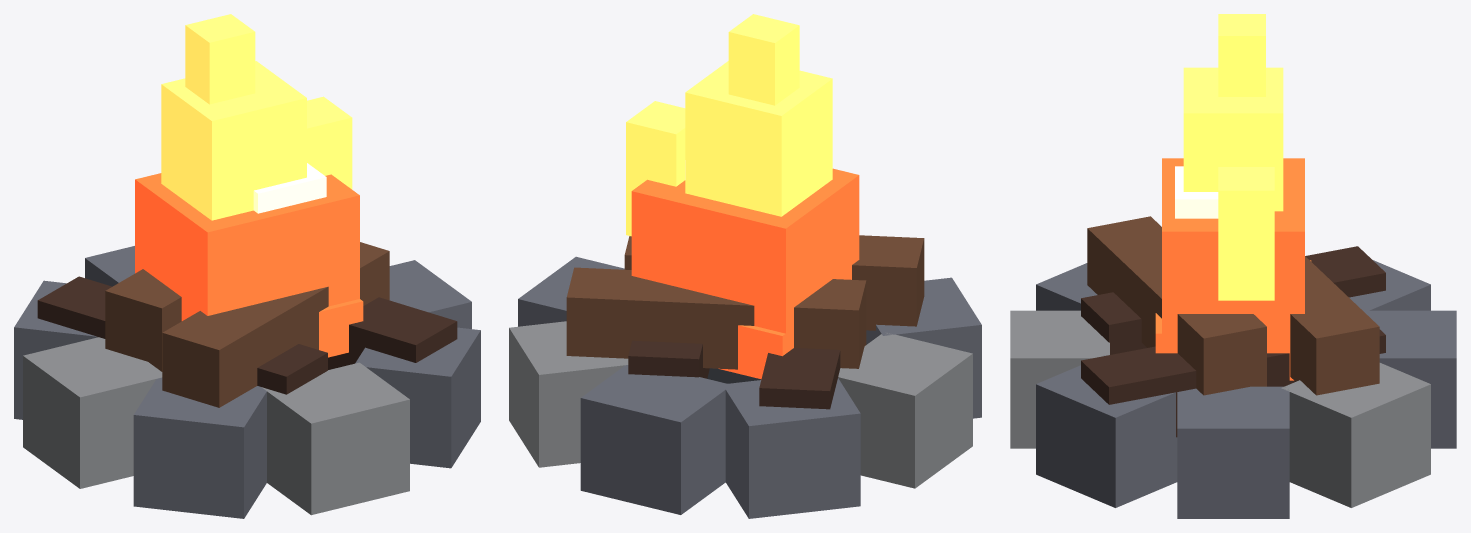
The model's file is campfire.gltf.
3 views of the same model, side by side, from view 1: azimuth 30°, elevation 25°; view 2: azimuth 150°, elevation 25°; view 3: azimuth 270°, elevation 25° (orthographic). The views are drawn at different scales.
Visible parts, largest first — view 1: Body, Flames; view 2: Body, Flames; view 3: Body, Flames.
Part boxes in pixels (x1,y1,x2,y2): Body: (14, 242, 480, 518); Flames: (135, 14, 359, 319); Body: (509, 235, 981, 518); Flames: (626, 14, 859, 349); Body: (1010, 216, 1456, 518); Flames: (1162, 14, 1304, 349).
Size of the model in its own units: 1.03 by 0.995 by 1.03.
